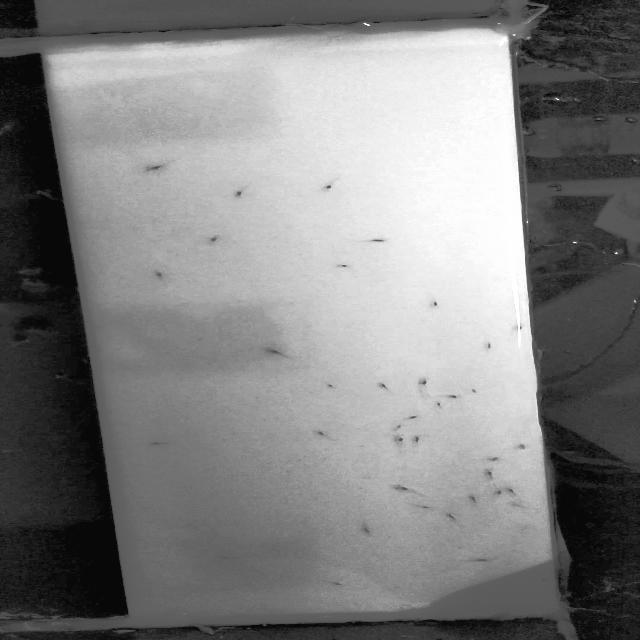shrimp: (140, 155, 189, 174), (262, 346, 303, 364), (223, 181, 262, 197), (370, 381, 406, 397), (317, 175, 348, 192), (198, 232, 232, 247), (457, 551, 498, 563), (208, 552, 252, 563), (146, 270, 178, 284), (481, 451, 512, 465), (318, 578, 354, 590), (426, 293, 453, 309), (356, 520, 380, 537), (401, 499, 435, 511), (412, 378, 433, 396), (321, 378, 343, 395), (396, 483, 426, 495), (142, 439, 171, 451), (435, 507, 459, 521), (497, 485, 522, 498), (462, 494, 482, 510), (479, 468, 499, 484), (514, 440, 535, 455), (503, 323, 528, 335), (331, 262, 352, 276), (386, 422, 410, 434), (477, 340, 505, 350), (463, 386, 486, 398), (361, 237, 393, 245), (412, 434, 428, 448), (427, 398, 443, 412), (313, 428, 333, 439), (492, 490, 506, 505), (394, 437, 409, 451), (535, 572, 551, 585), (402, 414, 428, 422), (452, 393, 468, 403)
